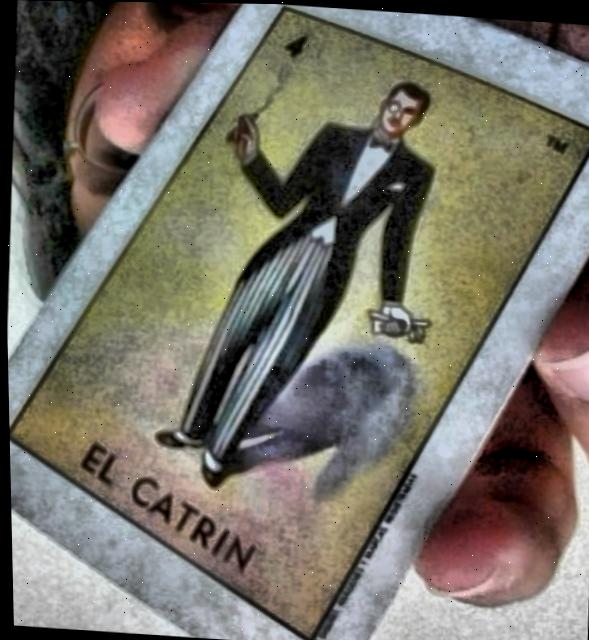El Catrin: (7, 4, 589, 636)
